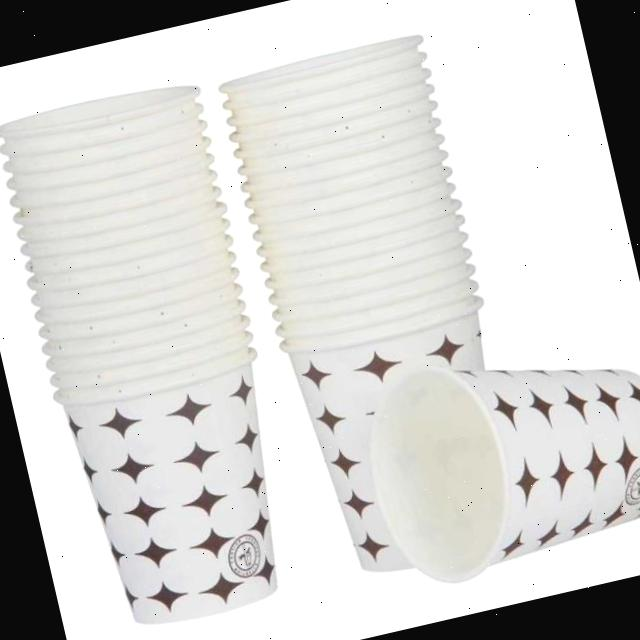trash: (324, 318, 640, 634)
